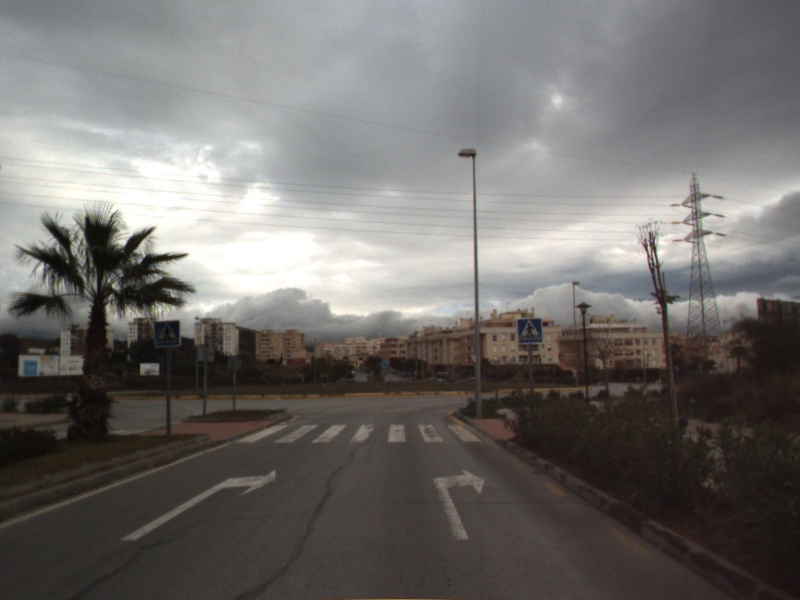RIGHT: (117, 467, 278, 543), (431, 467, 487, 542)
